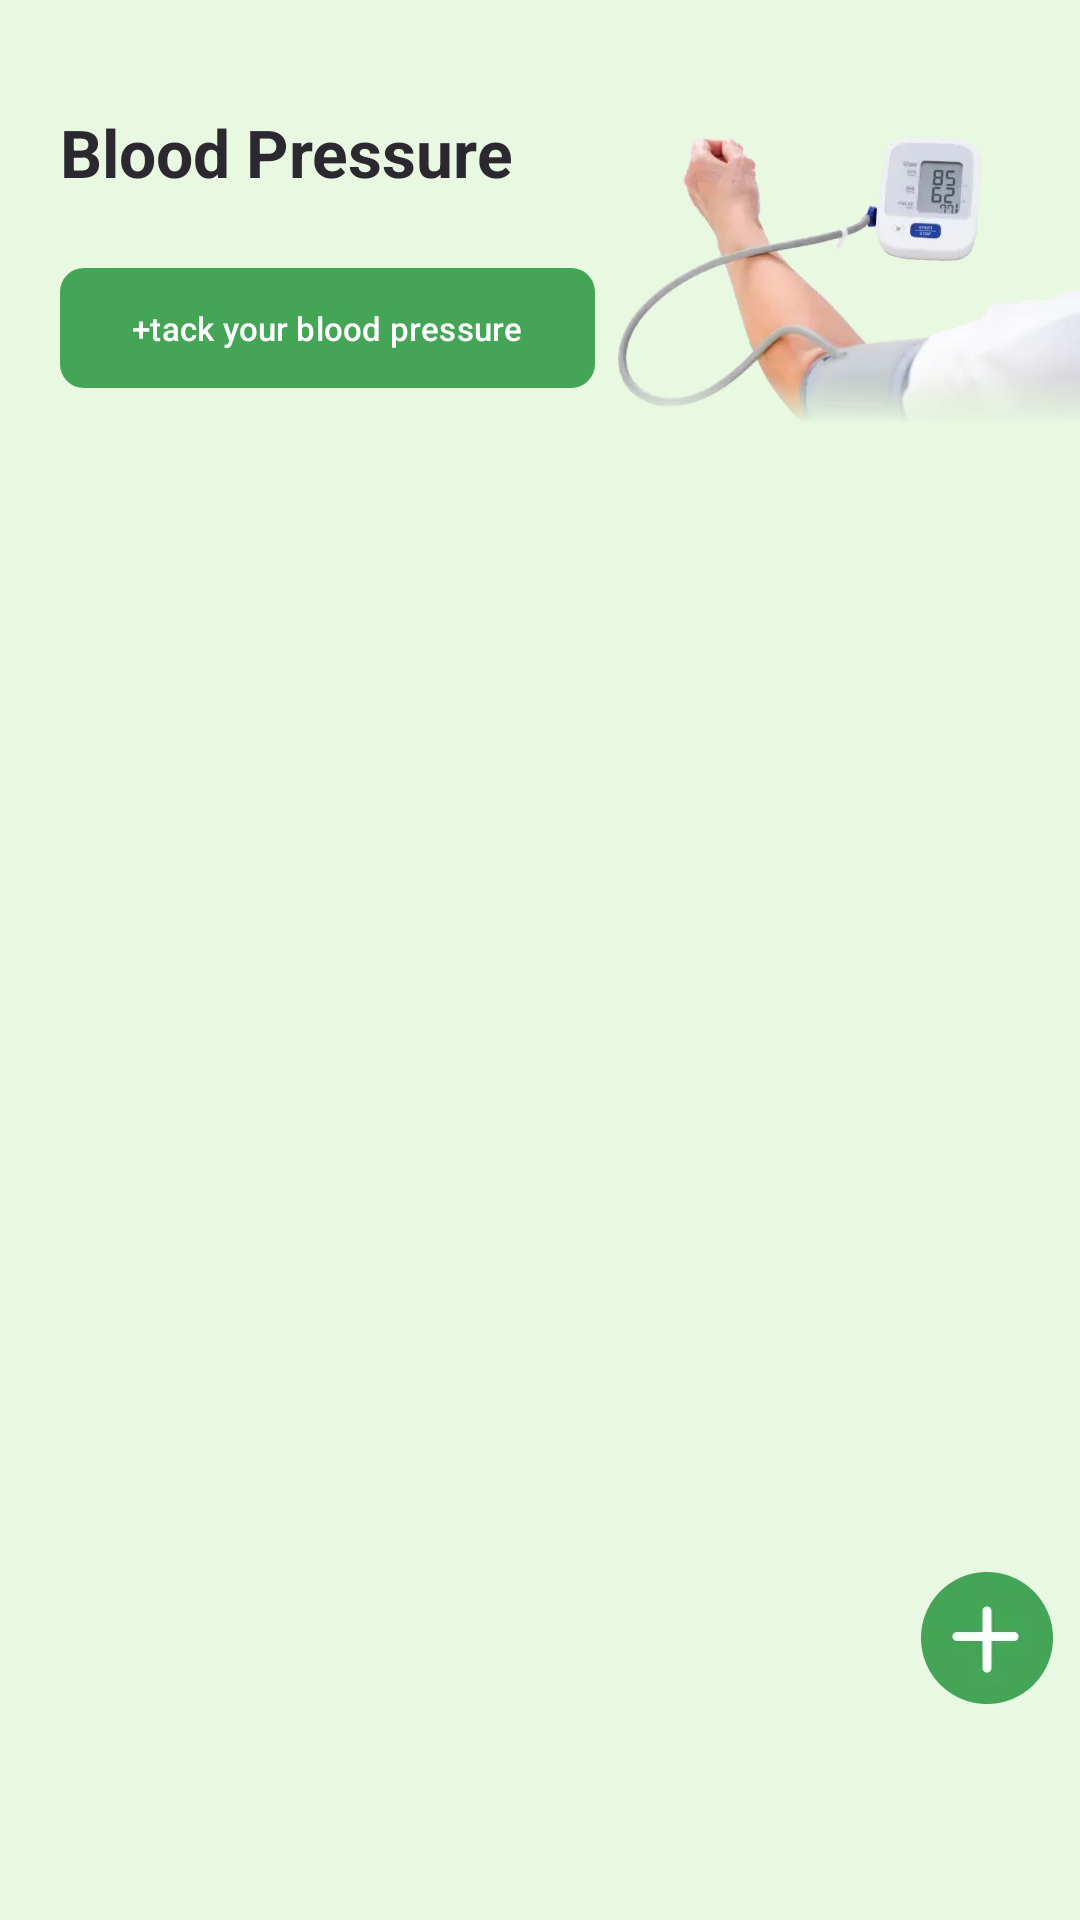

Icon bounding boxes for this 1080 x 1920 phone screenshot, format [x1, y1, x2, y2]:
add: [921, 1572, 1053, 1704]
